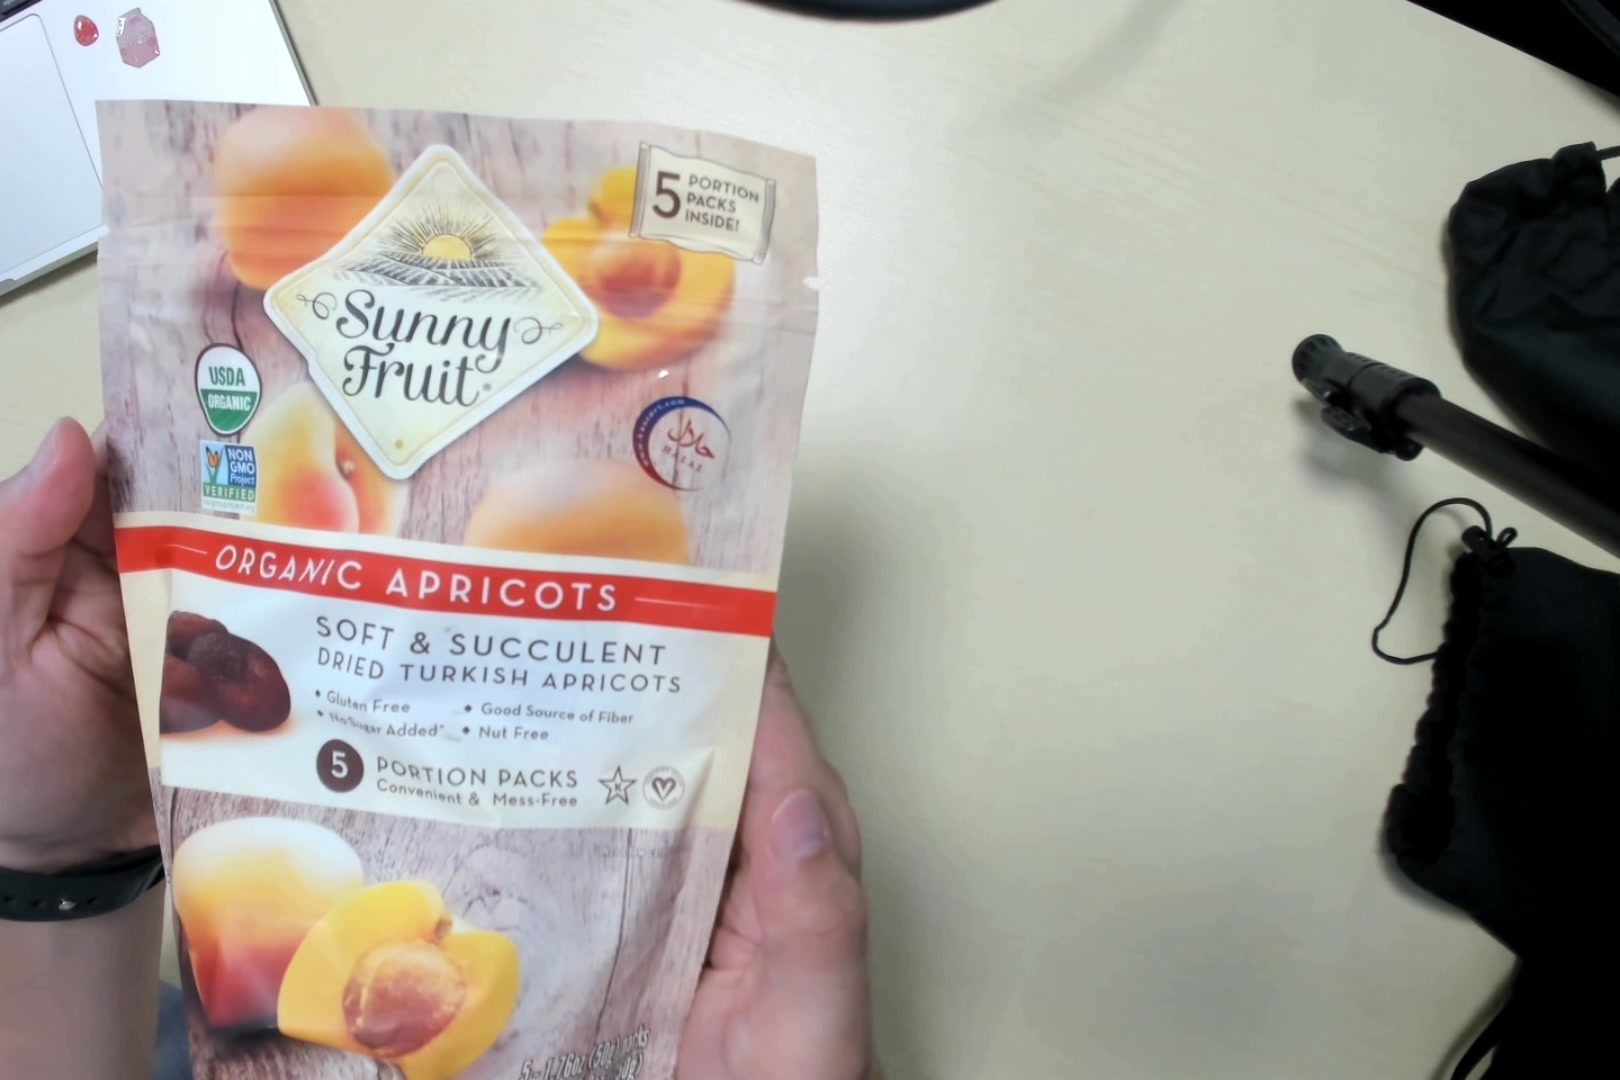DriedFood_0-99g_Halal_NonHealthy: (108, 101, 796, 1080)
